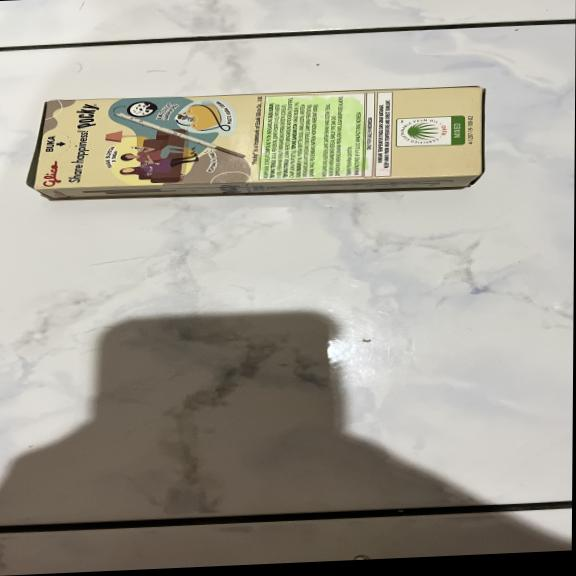Kertas: (25, 82, 486, 191)
